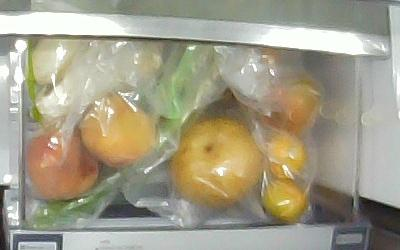peach_vinyl: (83, 93, 154, 166), (27, 132, 101, 199)
pear_vinyl: (169, 119, 260, 205)
tangerine_vinyl: (264, 130, 308, 178), (263, 179, 304, 227)
tomato_vinyl: (264, 71, 320, 134)
